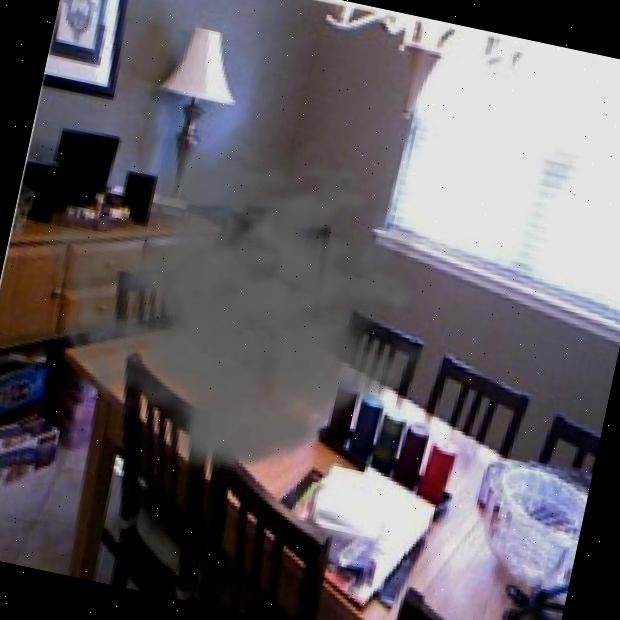smoke: (0, 85, 482, 519)
